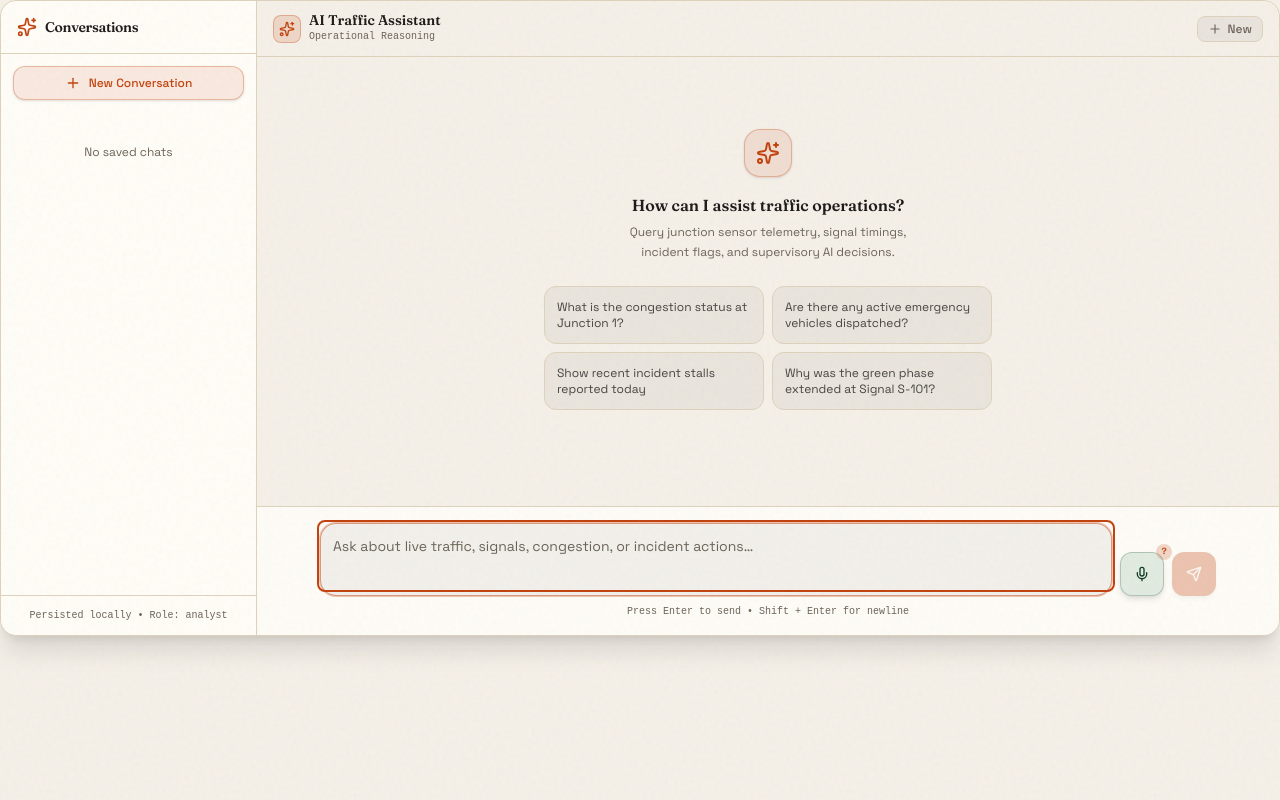
Test: AssistantChat Component (assistant.test.tsx) › renders prominent amber 'Limited data' banner when insufficient_data is true
Replace the text in the text box with test id "assistant-composer-textarea" with "How is Junction 9?" at (716, 556), box [321,524,1111,588]
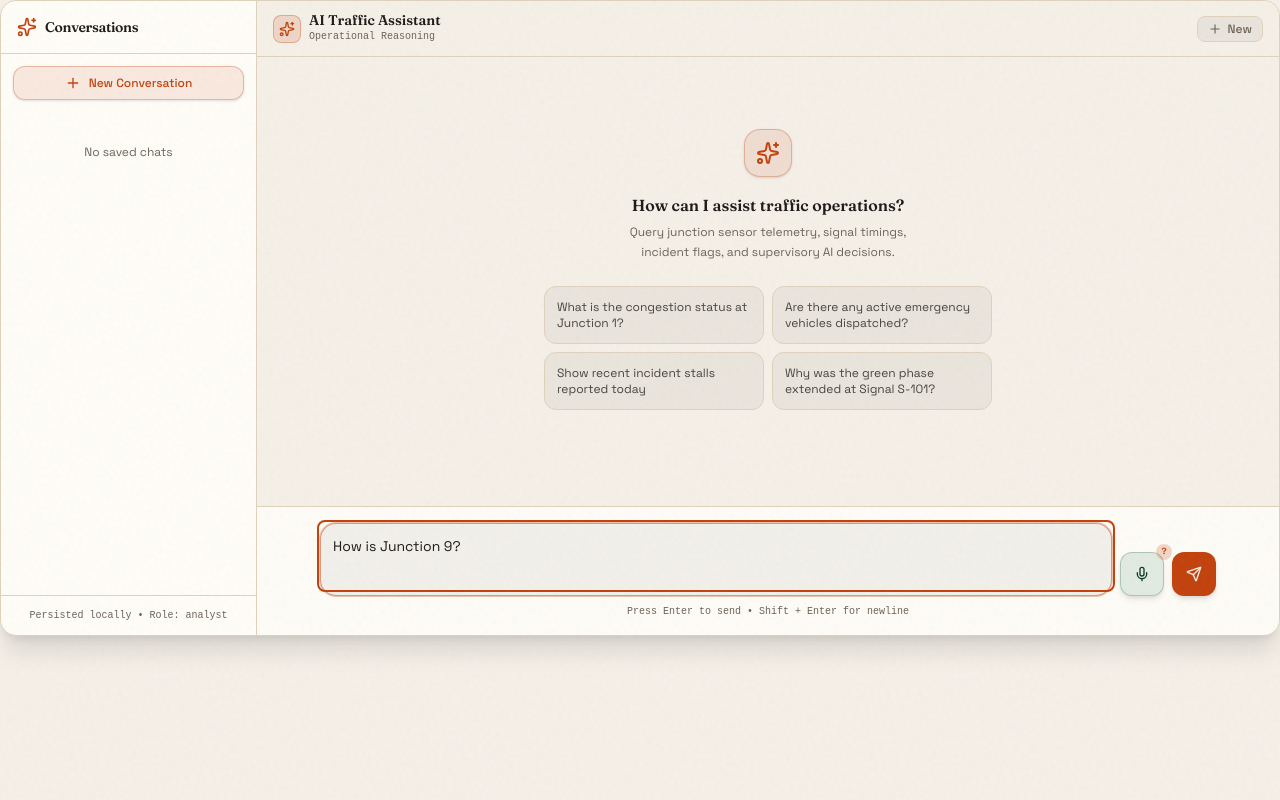
Click the button with test id "assistant-send-button" at (1194, 574), box [1172,552,1216,596]
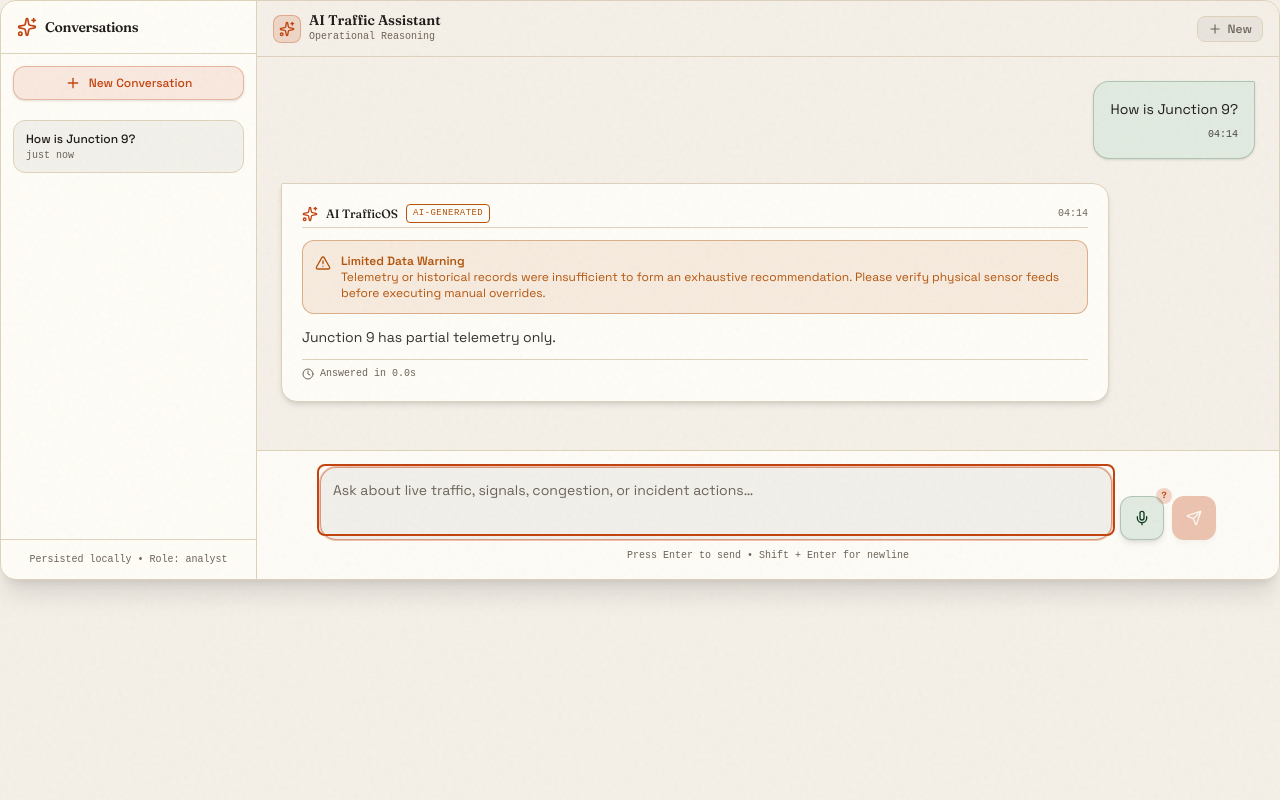
Now the element with test id "insufficient-data-banner" is shown, box [302,240,1088,314]
Now the text "Limited Data Warning" is shown, box [341,253,465,269]
